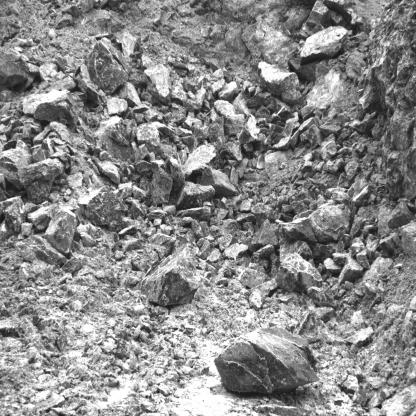stone: (215, 327, 317, 394), (134, 243, 200, 305), (280, 201, 354, 243), (21, 88, 86, 126), (85, 37, 129, 93), (20, 157, 63, 204), (299, 26, 355, 62), (79, 187, 125, 229), (275, 253, 322, 294), (259, 59, 302, 103), (44, 207, 77, 254), (0, 141, 33, 187), (99, 116, 132, 159), (211, 99, 245, 135), (136, 124, 172, 158), (183, 144, 217, 179), (0, 46, 28, 88), (200, 167, 238, 196), (144, 64, 171, 104), (200, 167, 237, 196), (175, 182, 215, 208), (150, 160, 173, 204), (295, 306, 321, 342), (90, 156, 120, 185), (3, 196, 27, 231), (338, 254, 364, 285), (148, 233, 176, 260), (306, 0, 332, 29), (207, 116, 226, 155), (387, 202, 414, 229), (251, 219, 279, 245), (307, 283, 336, 308), (238, 114, 260, 144), (299, 124, 324, 150), (239, 269, 272, 288), (28, 205, 52, 230), (222, 243, 248, 260), (223, 141, 243, 162), (320, 140, 337, 162), (107, 96, 127, 114), (272, 136, 292, 151), (345, 158, 358, 180), (356, 251, 371, 270), (337, 174, 353, 190), (206, 247, 221, 264), (322, 160, 339, 174), (192, 219, 204, 238), (325, 257, 342, 270), (183, 229, 197, 243), (239, 199, 251, 212), (216, 208, 229, 220), (22, 124, 31, 140), (303, 161, 313, 172), (182, 217, 192, 224)
